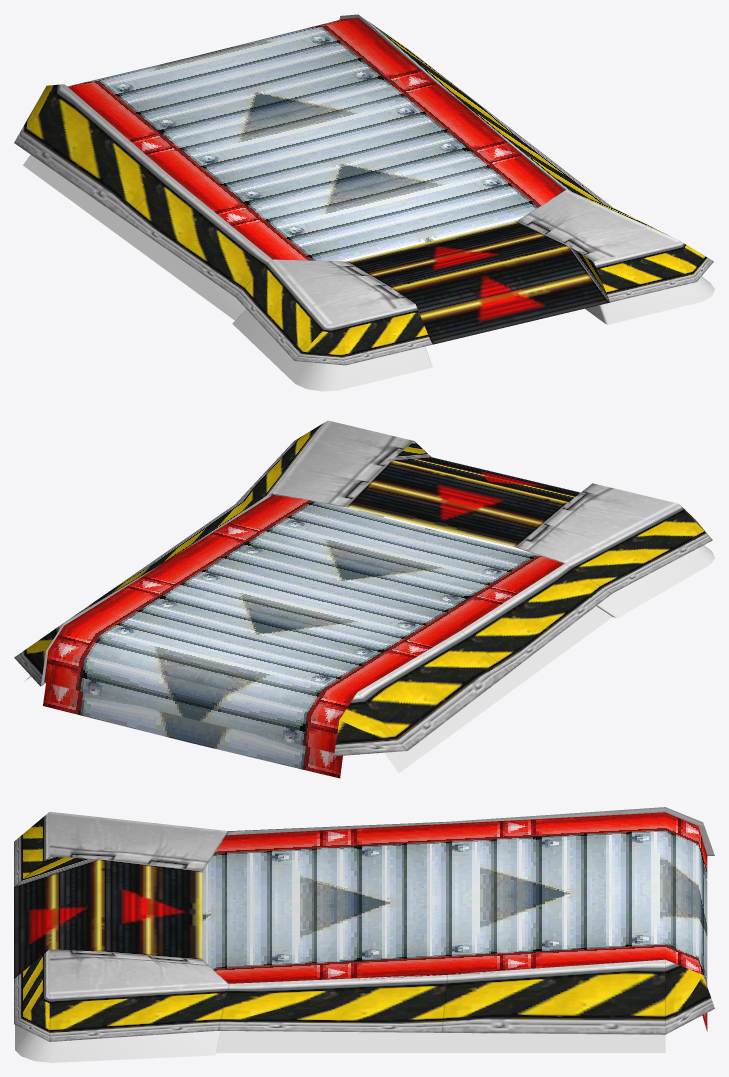
Rendered from DashPanel.fbx.
3 views of the same model, one above another, from view 1: azimuth 30°, elevation 25°; view 2: azimuth 150°, elevation 25°; view 3: azimuth 270°, elevation 25° (orthographic). The views are drawn at different scales.
Visible parts, largest first — view 1: DrawCall_0141, DrawCall_0142, Plane; view 2: DrawCall_0141, DrawCall_0142, DrawCall_0141.001, Plane; view 3: DrawCall_0141, DrawCall_0142, Plane.
Part boxes in pixels (bbox=[...]): DrawCall_0141: bbox=[67, 17, 564, 261]; DrawCall_0142: bbox=[14, 14, 713, 365]; Plane: bbox=[23, 154, 714, 391]; DrawCall_0141: bbox=[44, 495, 563, 752]; DrawCall_0142: bbox=[14, 420, 712, 756]; DrawCall_0141.001: bbox=[43, 682, 342, 778]; Plane: bbox=[24, 506, 714, 772]; DrawCall_0141: bbox=[202, 812, 707, 985]; DrawCall_0142: bbox=[14, 807, 714, 1041]; Plane: bbox=[15, 1025, 665, 1062].
Size of the model in its own units: 50.8 by 8.32 by 69.97.
